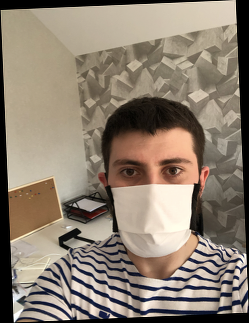with_mask: (109, 147, 203, 257)
